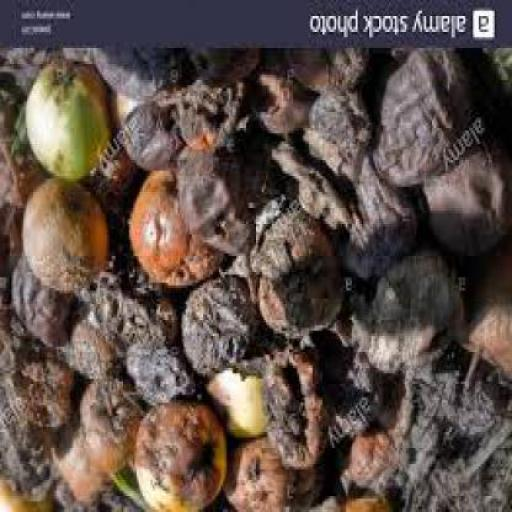biodegradable: (1, 47, 511, 511), (307, 96, 420, 283), (76, 264, 207, 408), (334, 250, 467, 378), (373, 53, 491, 189), (399, 373, 511, 511), (178, 136, 280, 262), (423, 120, 511, 264), (133, 168, 226, 291), (258, 213, 348, 338), (23, 179, 112, 299), (135, 406, 231, 512), (30, 61, 110, 181), (274, 144, 365, 240), (264, 344, 332, 472), (453, 248, 511, 390), (324, 349, 387, 472), (222, 442, 328, 511), (66, 51, 192, 107), (183, 286, 250, 382), (50, 406, 114, 504), (248, 50, 317, 136), (2, 82, 47, 213), (14, 261, 76, 354), (82, 386, 144, 478), (6, 350, 74, 430), (418, 370, 498, 437), (226, 195, 286, 283), (117, 101, 186, 173), (206, 371, 270, 445), (2, 424, 56, 506), (56, 466, 148, 511), (285, 54, 371, 99), (70, 318, 127, 382), (2, 51, 61, 107), (97, 142, 139, 216), (192, 51, 263, 93), (2, 307, 34, 390), (352, 434, 399, 488), (2, 211, 24, 299), (477, 51, 511, 107), (114, 474, 152, 511), (337, 487, 395, 511), (284, 503, 342, 511)
